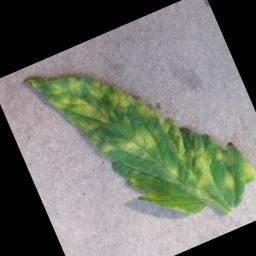Leaf_Mold: (24, 31, 190, 198), (175, 130, 238, 205), (235, 158, 256, 184), (161, 161, 183, 184), (219, 169, 239, 193)
